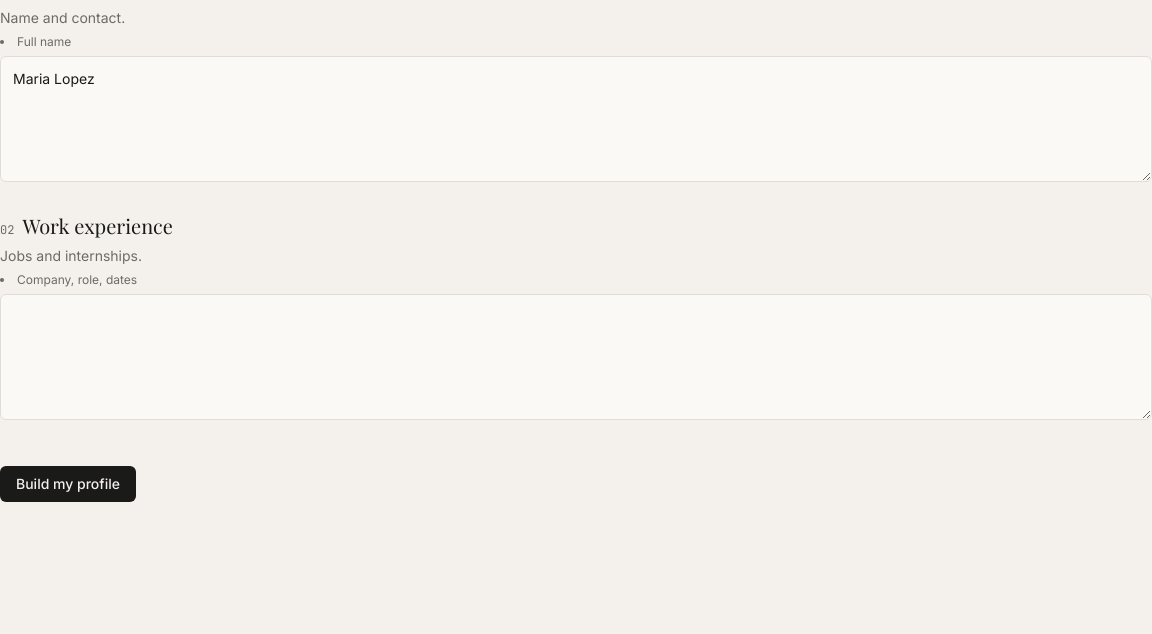
ProfileBuilder › builds a draft, highlights unsupported facts and lists follow-up questions
Click the button "Build my profile" at (68, 484), box [0, 466, 136, 502]
(page scrolled)
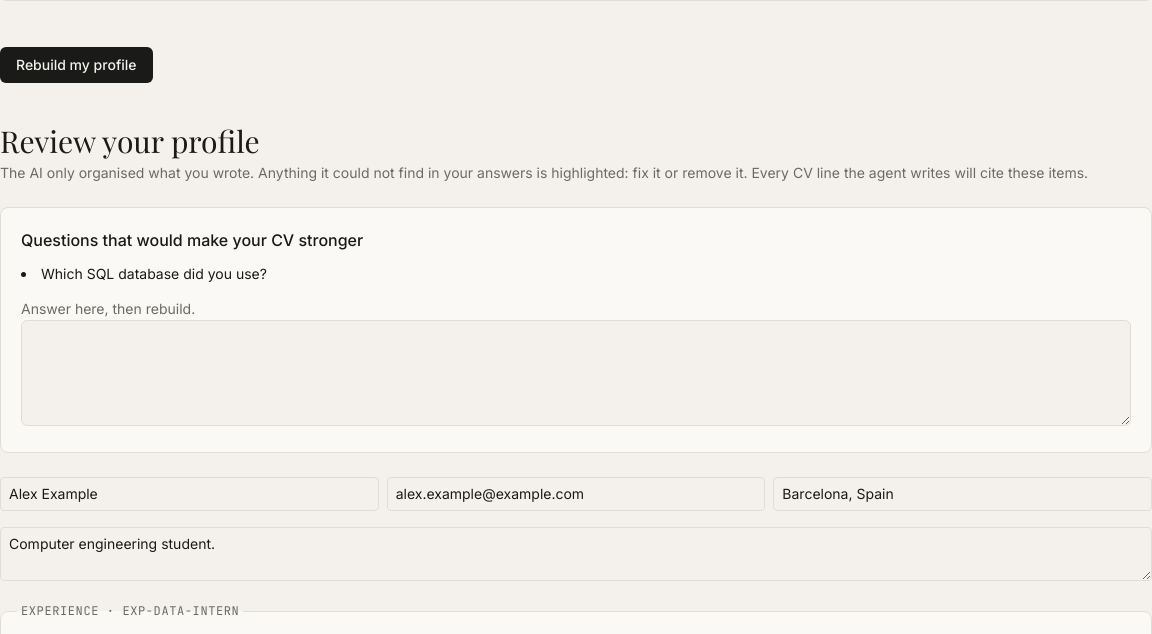
Now the list item "Which SQL database did you use?" is shown, box [41, 265, 267, 282]
